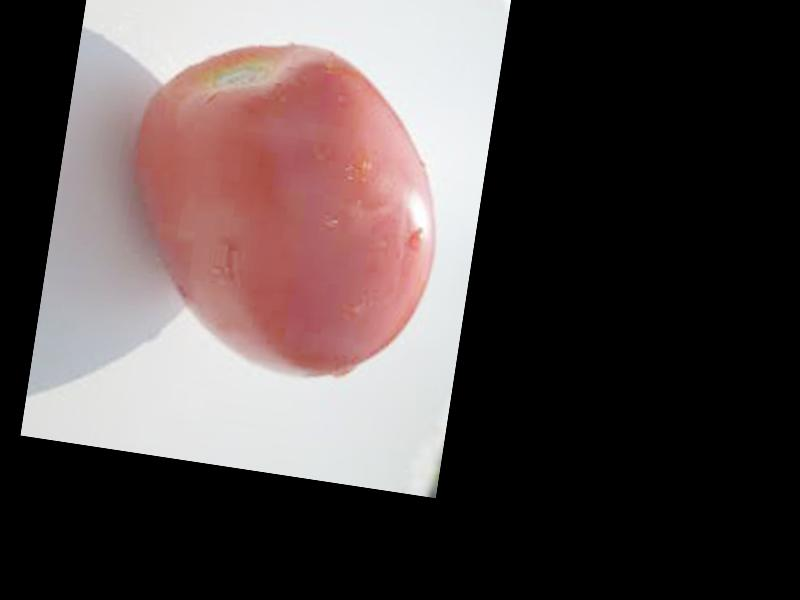Tomato: (108, 23, 462, 392)
